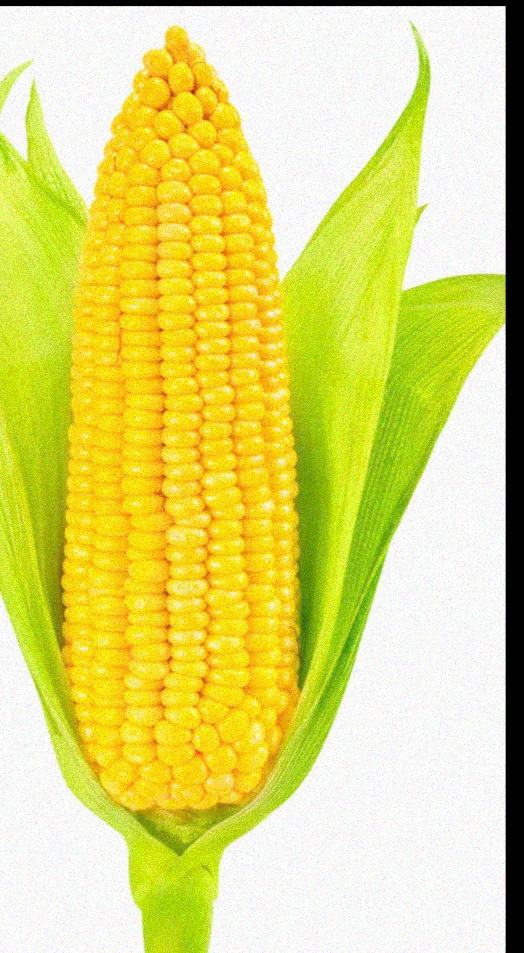corn: (42, 14, 297, 841)
